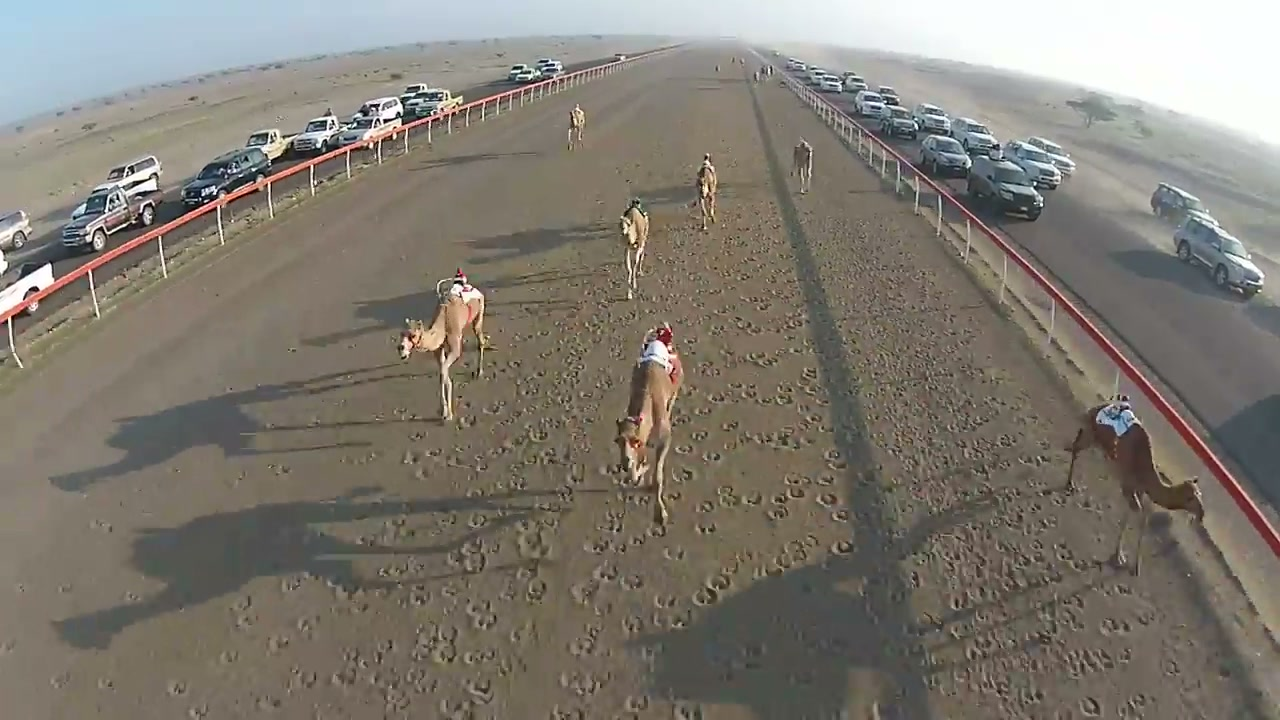animal_foot_print: (569, 235, 891, 702), (848, 240, 1140, 636), (386, 280, 642, 702), (151, 422, 459, 709)
